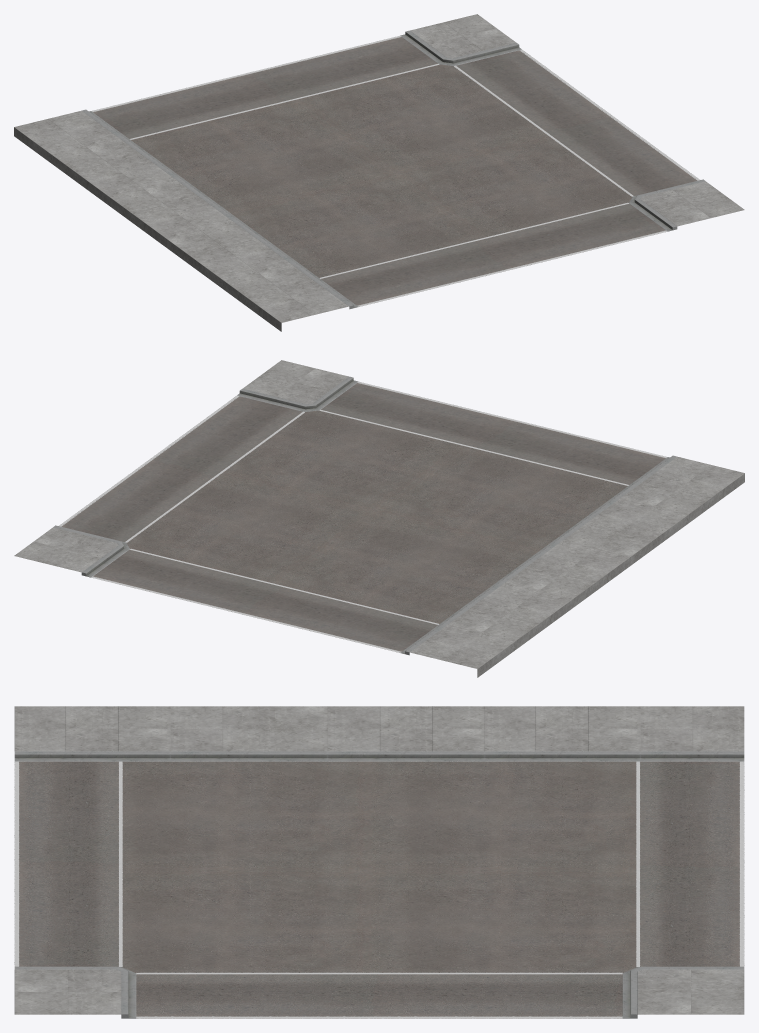
The model's file is Intersection_T_4x4_lane.fbx.
3 views of the same model, one above another, from view 1: azimuth 30°, elevation 25°; view 2: azimuth 150°, elevation 25°; view 3: azimuth 270°, elevation 25° (orthographic). The views are drawn at different scales.
Parts seen in each view (by area): view 1: Intersection_T_4x4_lane; view 2: Intersection_T_4x4_lane; view 3: Intersection_T_4x4_lane.
Part boxes in pixels (x1,y1,x2,y2): Intersection_T_4x4_lane: (14,14,744,331); Intersection_T_4x4_lane: (14,360,744,677); Intersection_T_4x4_lane: (14,706,744,1018).
Size of the model in its own units: 2403 by 44.86 by 2405.
